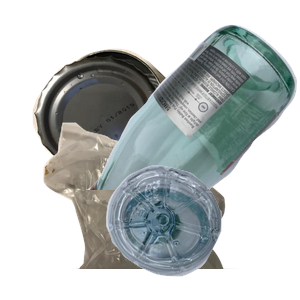glass: (86, 22, 300, 202)
metal: (30, 46, 205, 215)
plastic: (104, 163, 300, 300)
trash: (41, 120, 276, 300)
